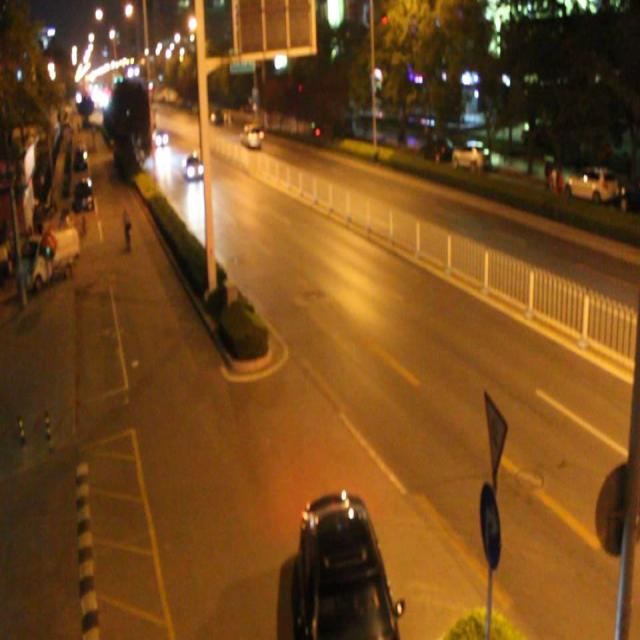car: (294, 490, 398, 640), (181, 153, 204, 182), (239, 123, 262, 151), (152, 129, 169, 148)
